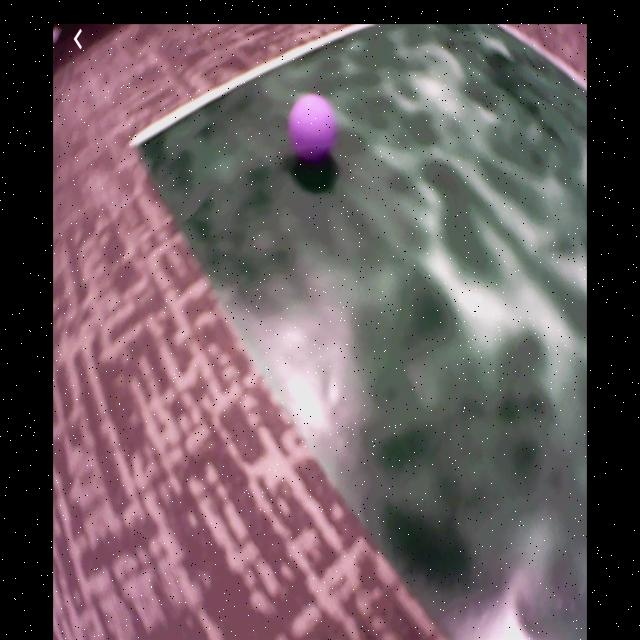ball: (291, 93, 336, 161)
